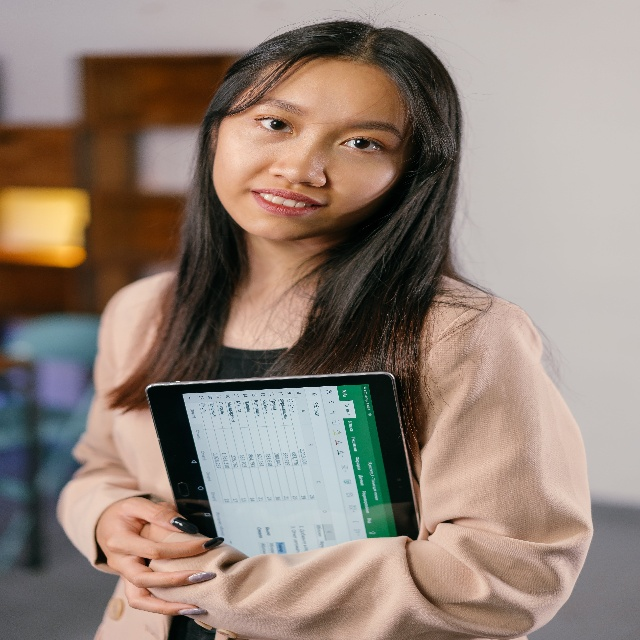Sin_guantes: (95, 496, 224, 616)
